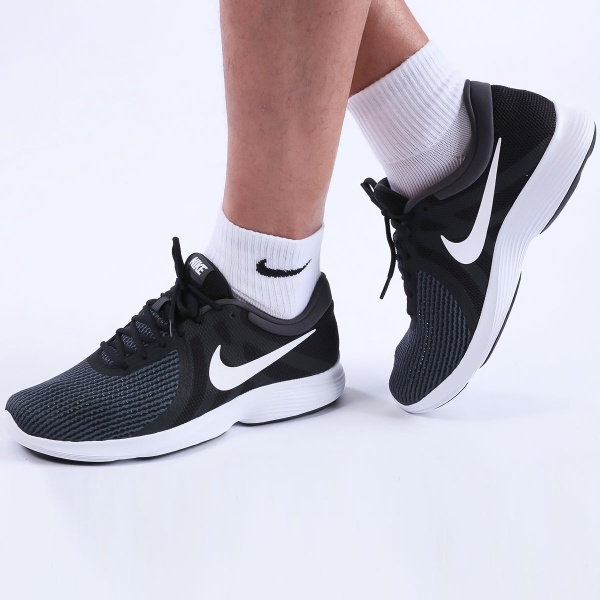nike: (437, 132, 504, 273), (203, 327, 320, 394)
